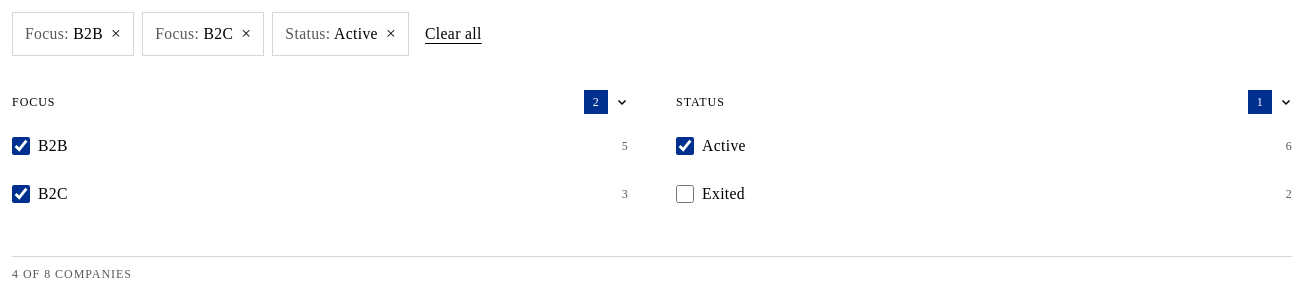
Test: portfolio filters › clears everything back to the bare pathname
What coordinates should you click on to do the following:
click the link "Clear all"
I would click on:
 (453, 34)
Its box is [425,25,482,42].
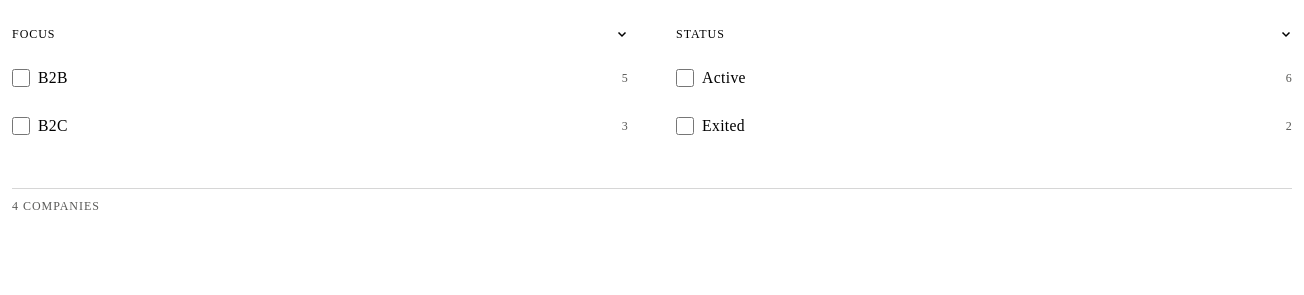
Now the checkbox labelled "B2B 5" is not checked, box [12,69,30,87]
Now the checkbox labelled "B2C 3" is not checked, box [12,117,30,135]
Now the checkbox labelled "Active 6" is not checked, box [676,69,694,87]
